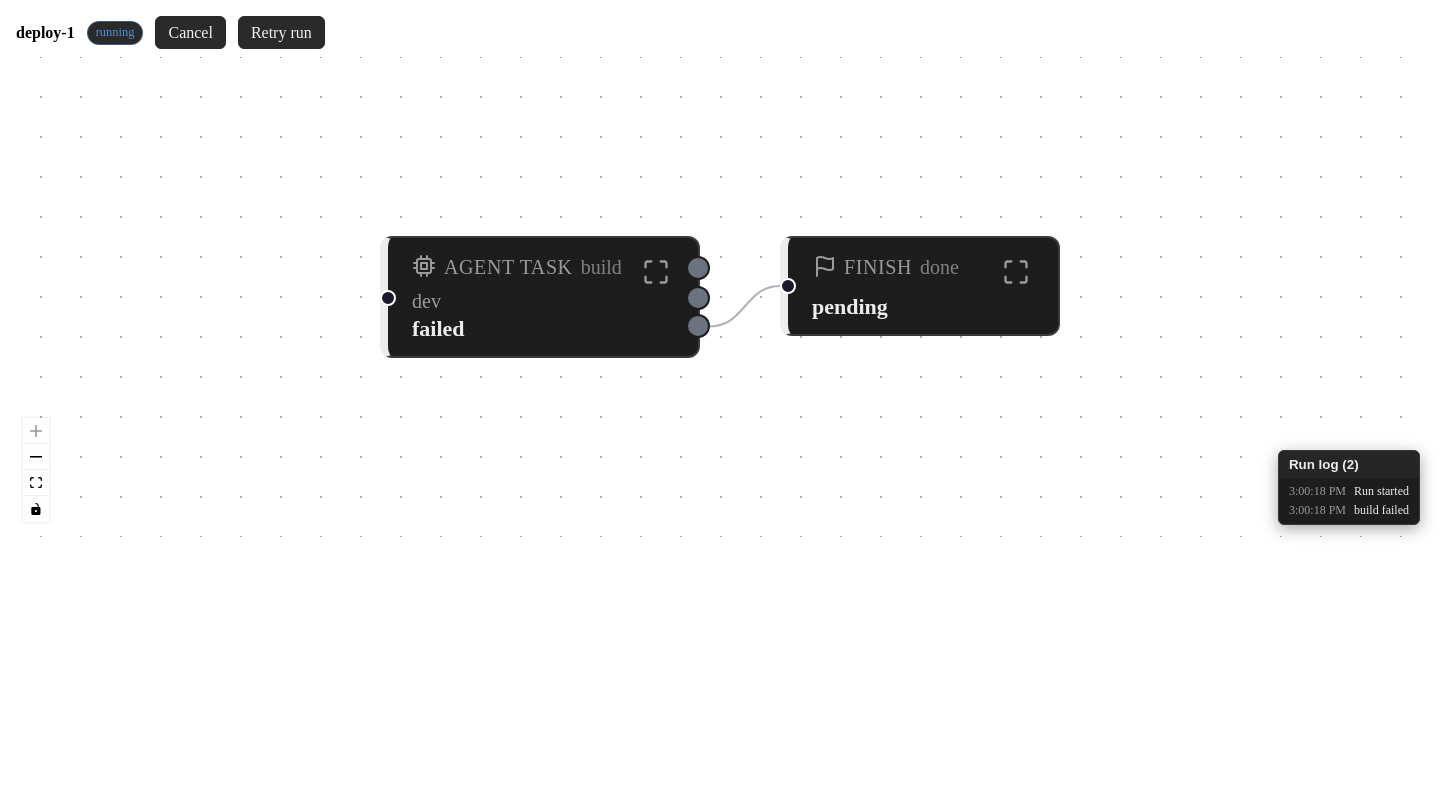
Test case: RunInspector › keeps deny visible on a settled node for failure context
Expected: the text "deploy-1" is shown, 16,24 -> 75,42
Click the button named "Open node build" at (656, 272), box 638,254 -> 674,290
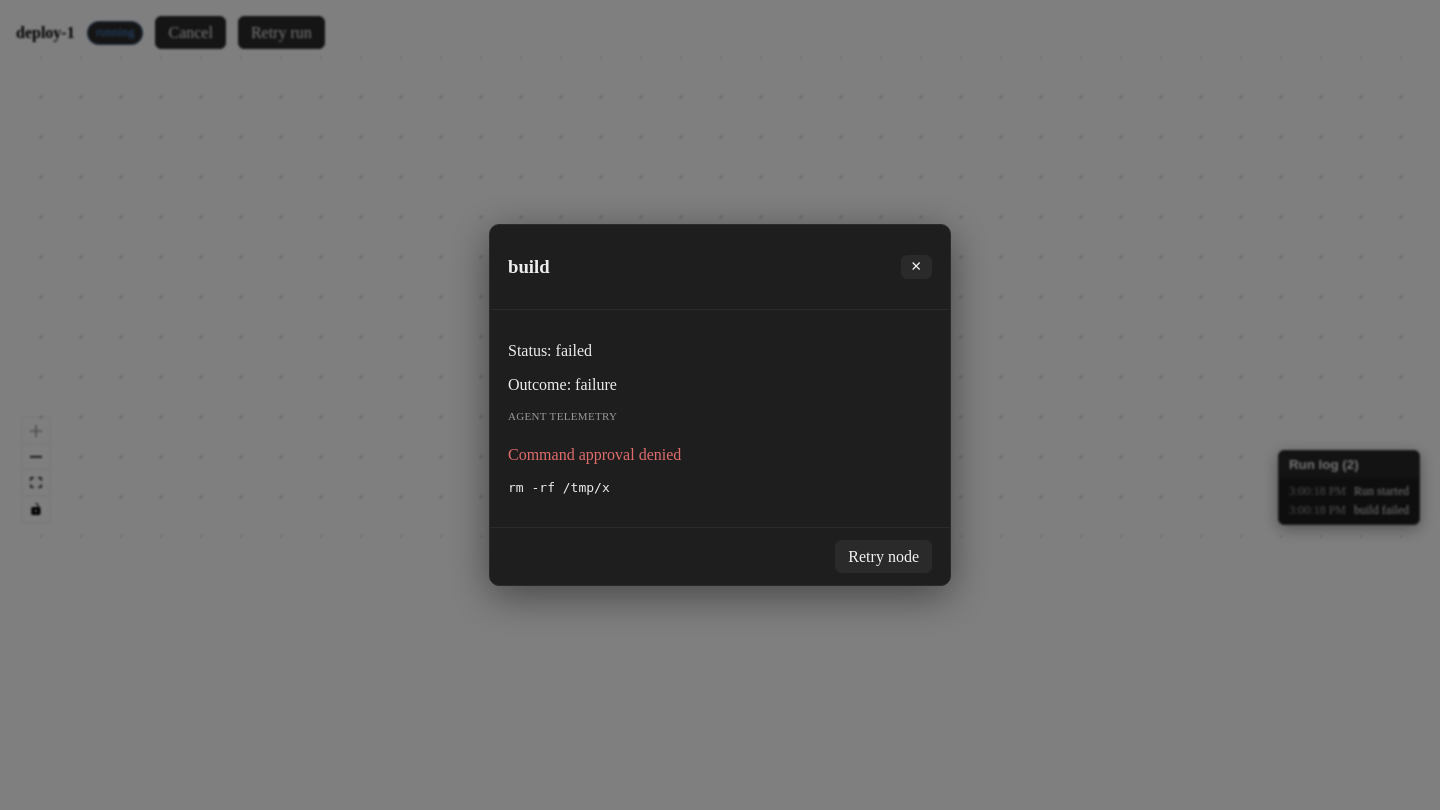
Result: the text "Command approval denied" is shown at 508,446 -> 681,463
Result: the text "rm -rf /tmp/x" is shown at 508,480 -> 610,495
